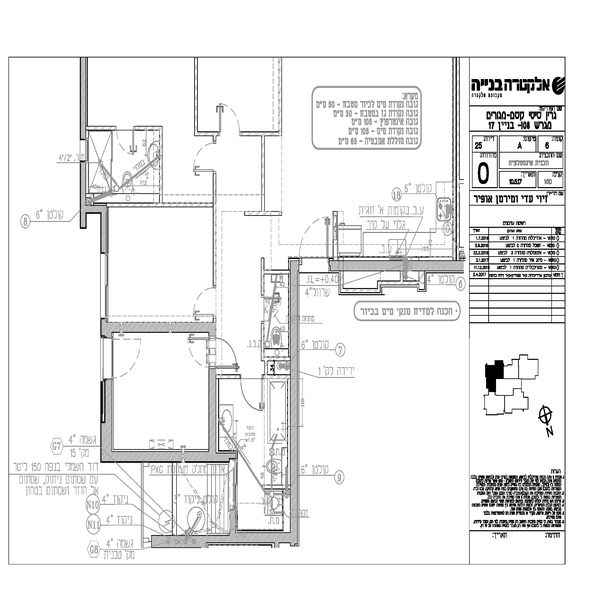door: (101, 334, 157, 385), (173, 336, 240, 364), (235, 375, 277, 414), (297, 216, 331, 261), (180, 143, 218, 174), (187, 285, 218, 323), (216, 94, 246, 133), (114, 124, 142, 153)
room: (97, 314, 224, 465), (207, 365, 298, 546), (93, 199, 220, 324), (69, 120, 160, 209)
wall: (285, 252, 303, 547), (337, 248, 469, 275), (102, 442, 237, 466), (106, 316, 224, 341), (158, 528, 283, 549), (207, 364, 227, 466), (94, 384, 119, 463), (77, 58, 92, 141), (75, 162, 93, 231), (91, 202, 112, 255)
window: (97, 255, 117, 316), (225, 459, 240, 514)
